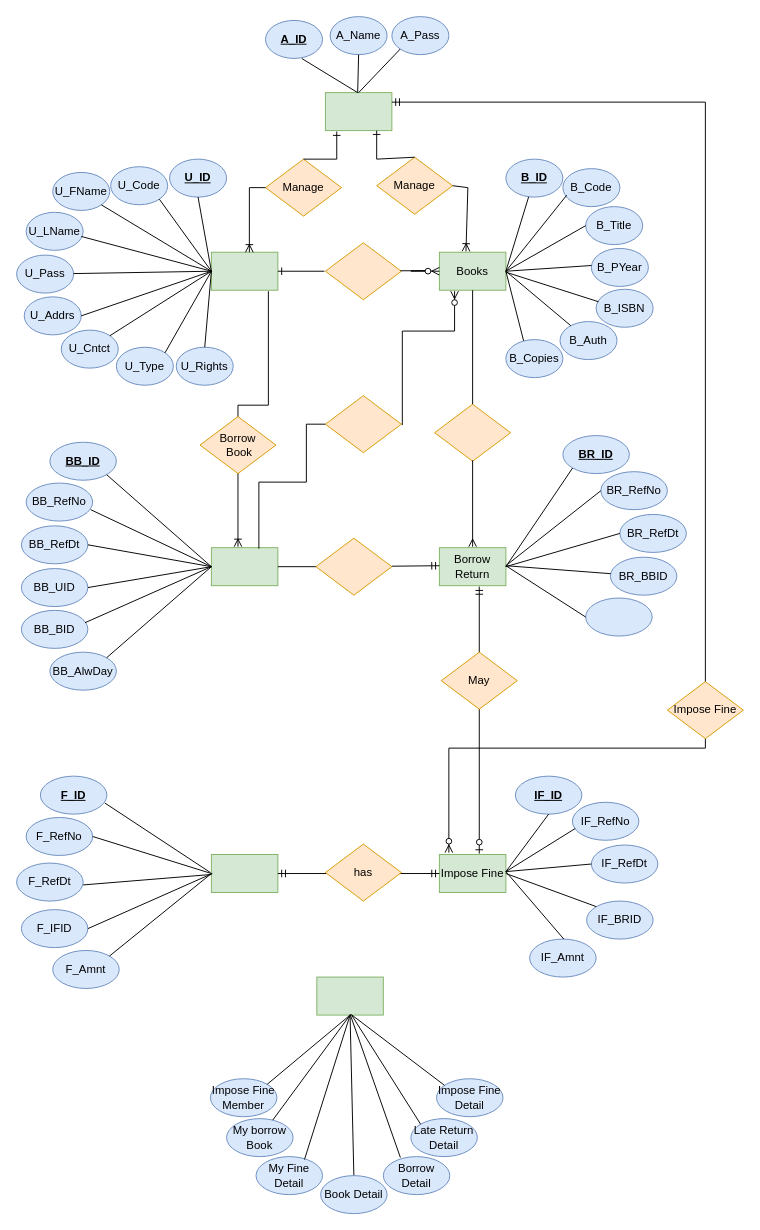
Image size: 760x1230. Some labels were removed from this diagram. Here are the shapes that lost their labels. From the top down, the box of each, then its label:
(324, 92, 392, 131): Admin
(210, 251, 278, 290): User
(324, 242, 401, 300): Search
(324, 395, 401, 453): is borrowed by
(434, 403, 511, 461): has return
(210, 547, 278, 586): Borrowing
(315, 537, 392, 595): has_return
(585, 597, 652, 636): BR_FineYN
(210, 854, 278, 893): Fine Payment
(316, 976, 383, 1015): Reporting
